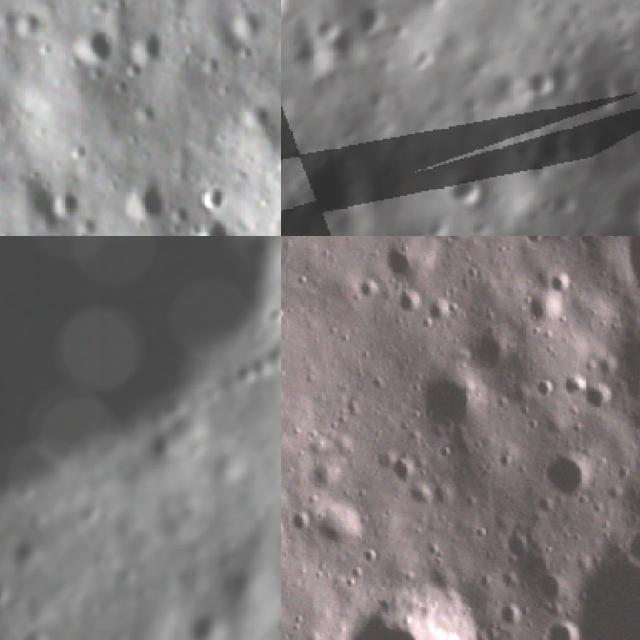crater: (559, 537, 640, 640), (339, 587, 485, 640), (291, 149, 371, 233), (415, 368, 486, 435), (107, 171, 169, 236), (57, 13, 116, 81), (539, 440, 594, 504), (312, 499, 370, 550), (120, 26, 174, 78), (466, 323, 520, 372), (570, 74, 624, 120), (382, 238, 431, 283), (439, 172, 488, 212), (42, 185, 84, 231), (230, 102, 272, 148), (346, 0, 392, 41), (530, 572, 574, 612), (192, 184, 230, 226), (520, 68, 556, 110), (524, 294, 566, 330), (424, 294, 460, 335), (405, 476, 442, 514), (173, 216, 239, 236), (498, 528, 532, 566), (580, 380, 616, 414), (388, 447, 419, 482), (539, 615, 582, 640), (498, 602, 526, 636), (394, 285, 424, 316), (287, 507, 314, 539), (622, 522, 640, 568), (547, 272, 572, 297)
